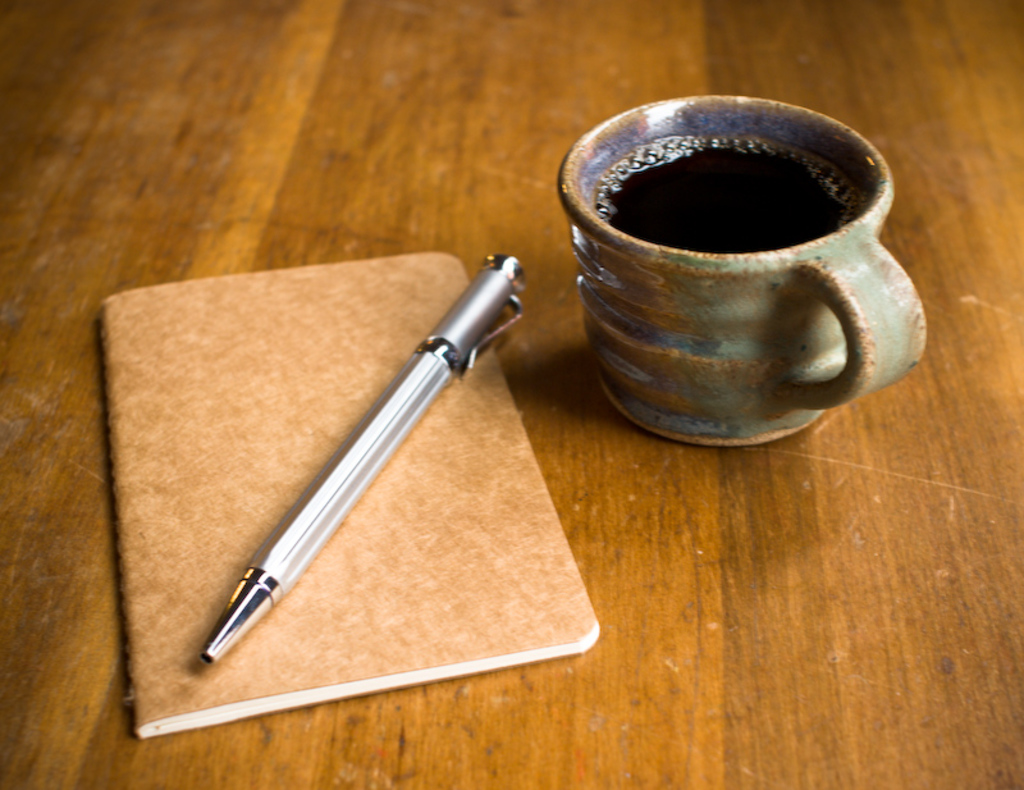Pen: (197, 249, 523, 663)
